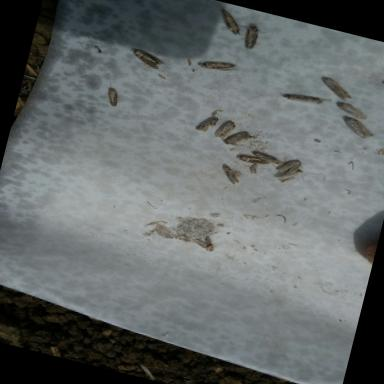pbw: (314, 74, 358, 104), (336, 114, 380, 144), (124, 44, 168, 73), (279, 86, 327, 112), (330, 98, 374, 124), (236, 20, 269, 54), (196, 52, 241, 76), (97, 83, 129, 115), (274, 164, 308, 190), (213, 9, 244, 37), (212, 118, 242, 144), (186, 230, 218, 254), (232, 151, 270, 171), (215, 162, 246, 186), (223, 128, 253, 150), (276, 155, 304, 178), (249, 149, 283, 166), (196, 112, 219, 136)
